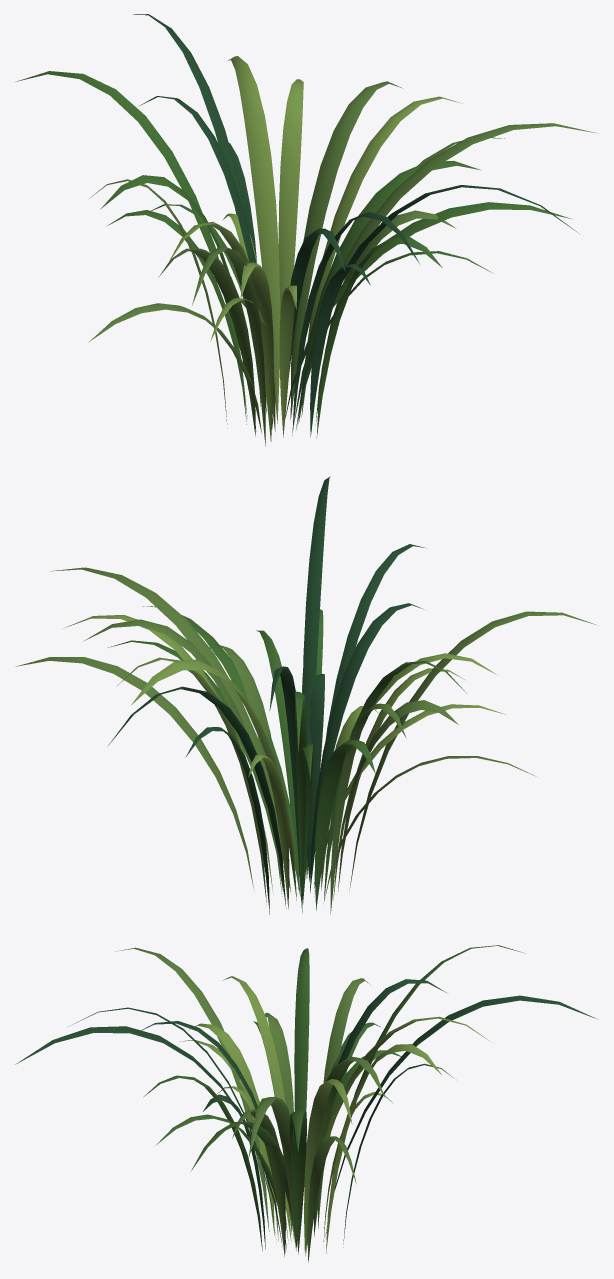
Rendered from meadow_grass_tall.hi.glb.
The picture shows the model from 3 angles, top to bottom: view 1: azimuth 30°, elevation 25°; view 2: azimuth 150°, elevation 25°; view 3: azimuth 270°, elevation 25°; orthographic projection. The views are drawn at different scales.
Visible parts, largest first — view 1: body; view 2: body; view 3: body.
Boxes of the visible parts, x1,y1,x2,y2 form: body: (15,14,598,446); body: (16,476,595,914); body: (15,945,598,1262).
Bounding box in the file's own units: 0.9791 × 0.5583 × 1.14.
